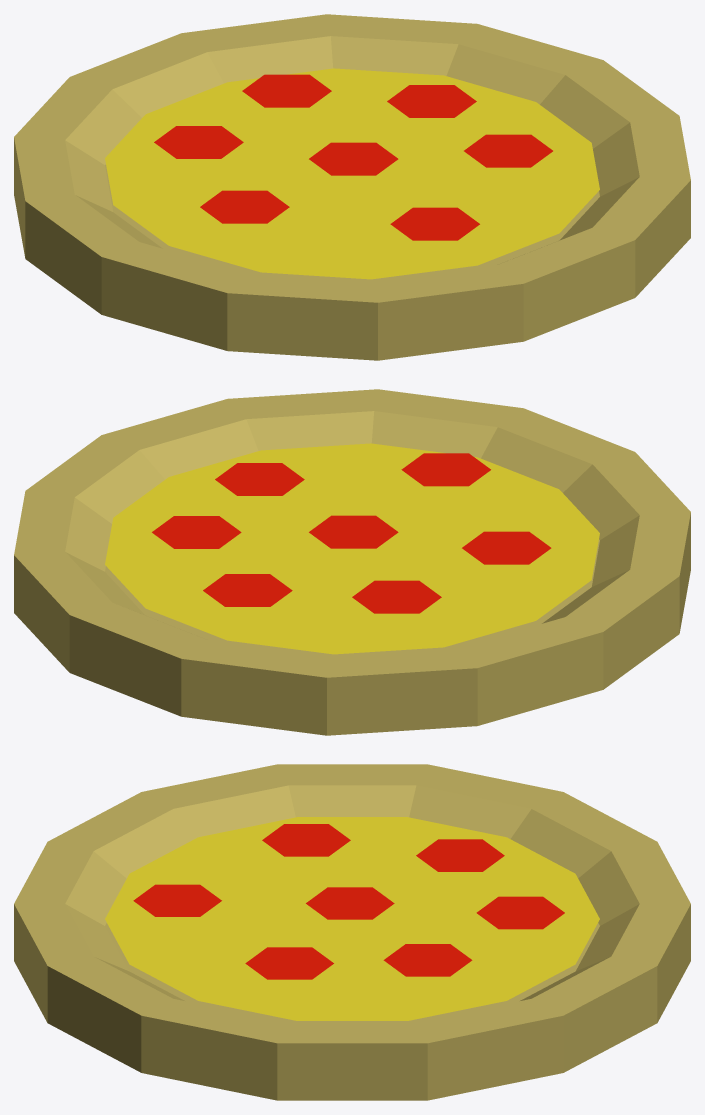
Rendered from Pep Pizza.fbx.
3 views of the same model, one above another, from view 1: azimuth 30°, elevation 25°; view 2: azimuth 150°, elevation 25°; view 3: azimuth 270°, elevation 25° (orthographic).
Parts seen in each view (by area): view 1: Crust, Cheese, Pep; view 2: Crust, Cheese, Pep; view 3: Crust, Cheese, Pep.
Boxes of the visible parts, x1,y1,x2,y2 form: Crust: (14,14,690,360); Cheese: (105,68,599,279); Pep: (154,74,552,240); Crust: (14,389,690,735); Cheese: (105,443,599,654); Pep: (152,453,551,613); Crust: (14,764,690,1100); Cheese: (105,817,599,1020); Pep: (133,824,564,979).
Bounding box in the file's own units: 40.75 × 3.93 × 41.8.
